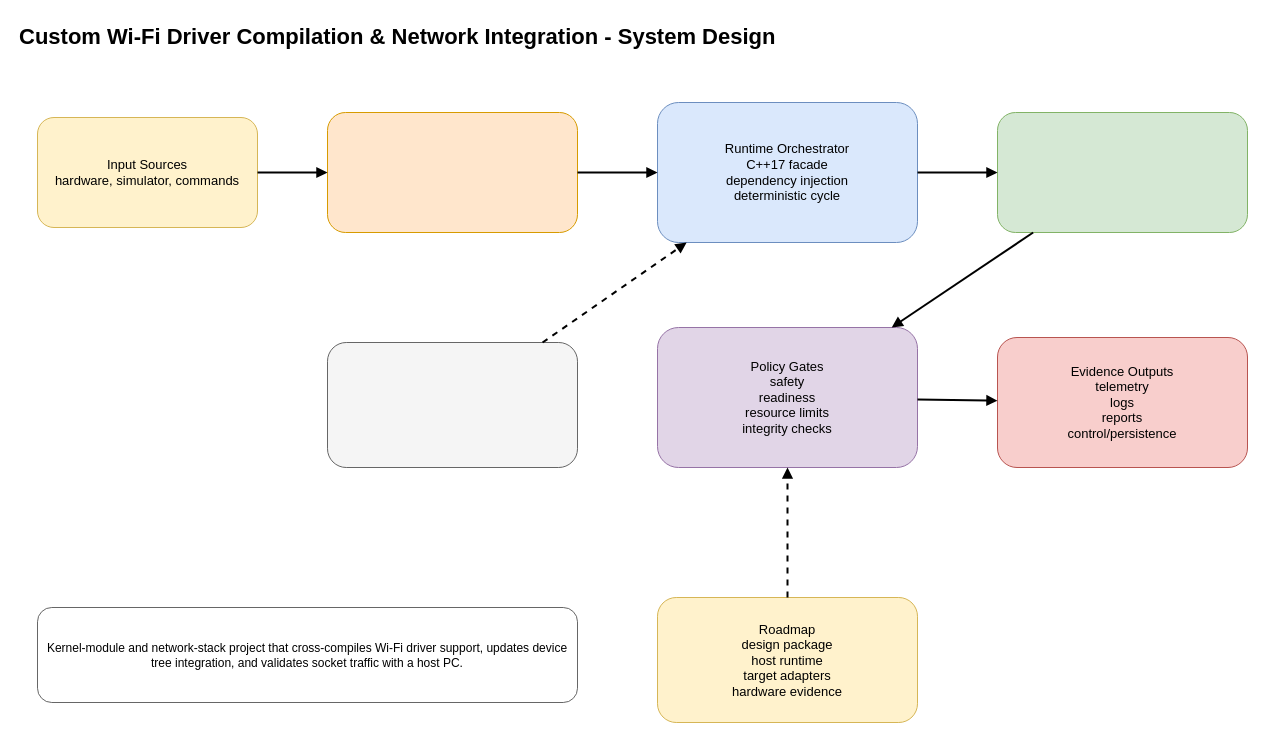
Some shapes in this 1265 by 740 pixel diagram are drawn without their labels. Here are the shapes that lost their labels. From the top down, the box of each, then its label:
(326, 112, 578, 232): Adapter Layer bus / OS / driver / transport boundaries
(996, 112, 1248, 232): Domain Model typed state derived metrics project decision
(326, 342, 578, 468): Validation CTest scenarios CI hardware evidence production fixture
